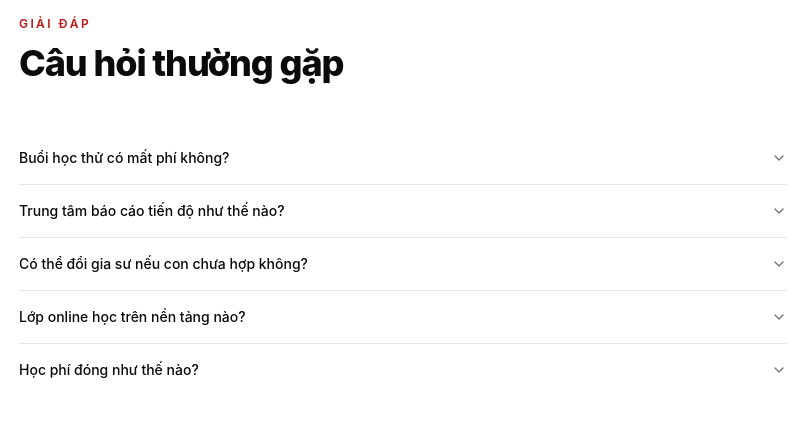
Scenario: Faq › reveals the answer when a question is opened
Click the button "Buổi học thử có mất phí không?": (124, 157) x1=19 y1=132 x2=787 y2=184
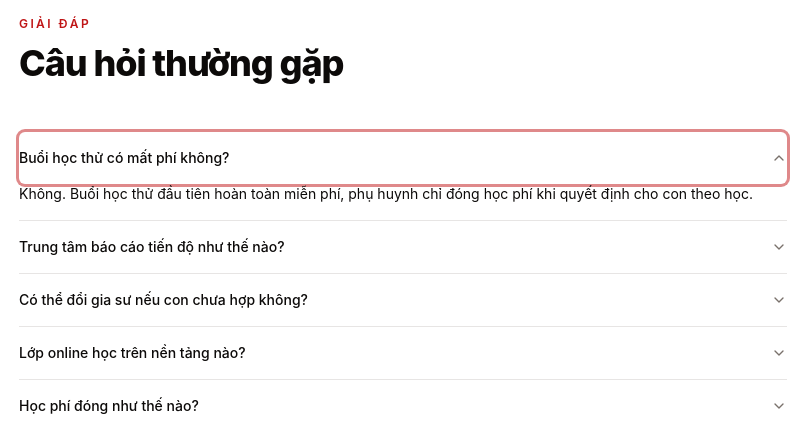
Check: the text "hoàn toàn miễn phí" is shown, box x1=19 y1=185 x2=753 y2=202
